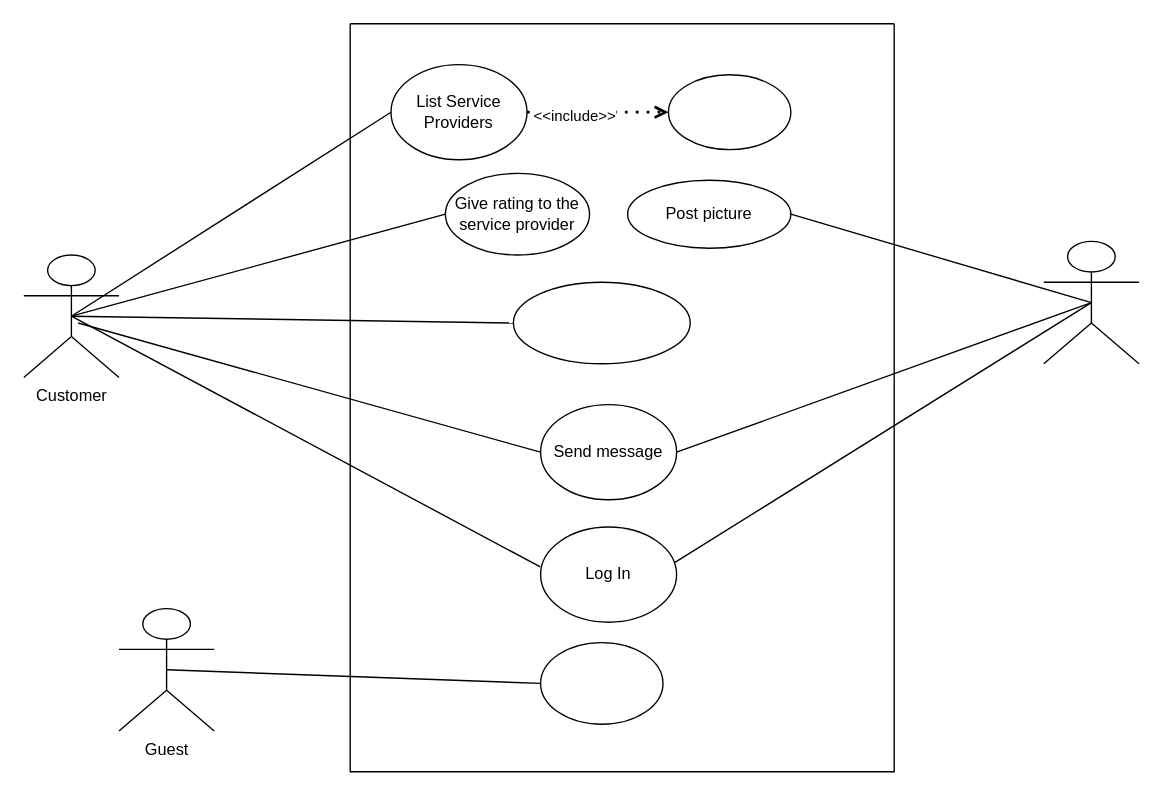
The diagram is 1175 pixels wide and 796 high, and some of its shapes have lost their labels. Each missing label, with the centre of its shape:
Filter search: pixel 729 111
Get an appointment: pixel 601 322
Register: pixel 601 682
Service Provider: pixel 1090 302
